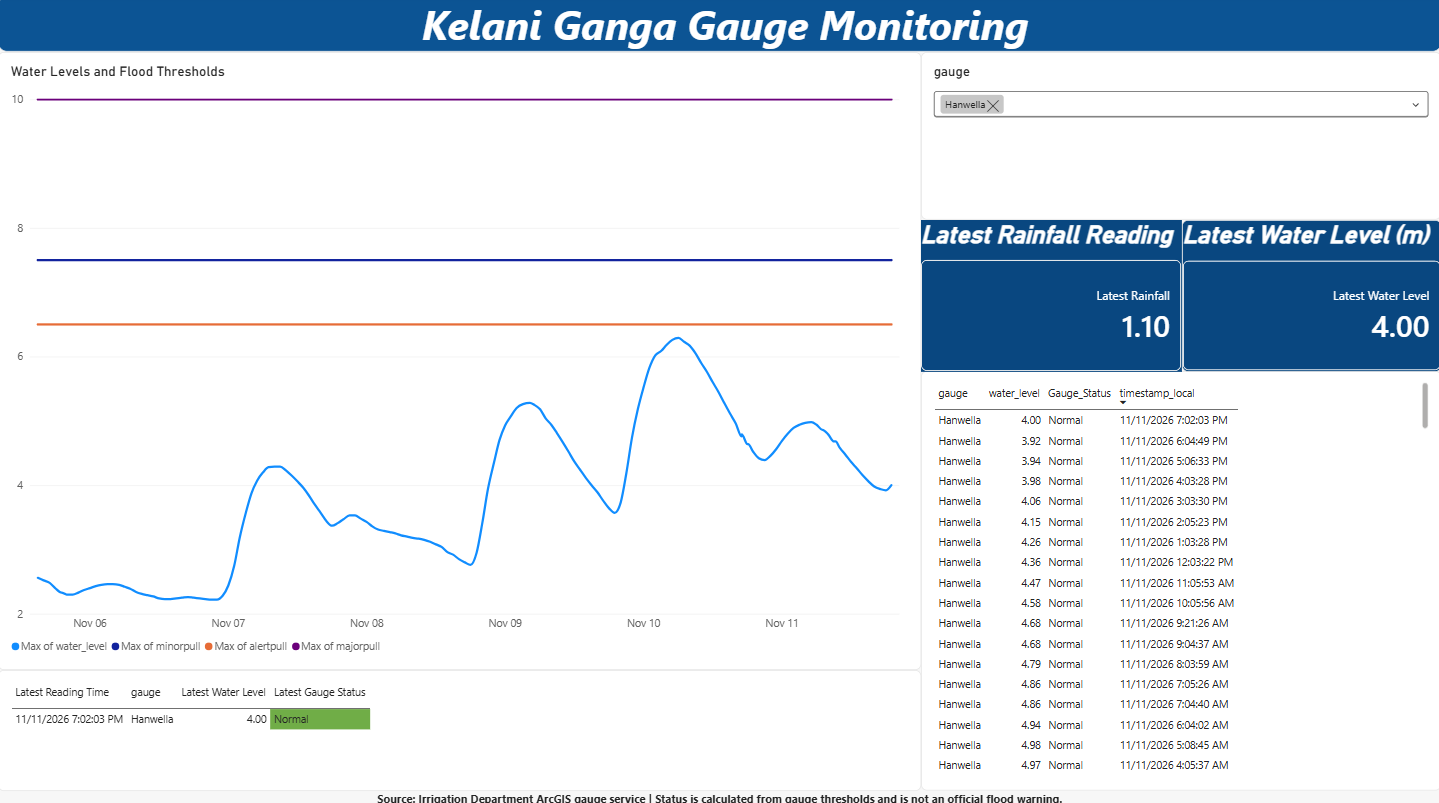

Layout of this report page (visuals, bound fields, positions):
{"tool":"powerbi","page":{"name":"Kelani Live","canvas":[1920,1080],"ordinal":1},"visuals":[{"type":"lineChart","title":"Water Levels and Flood Thresholds","fields":{"Category":["kelani_gauge_history.timestamp_local"],"Y":["Max(kelani_gauge_history.water_level)","Max(kelani_gauge_history.minorpull)","Max(kelani_gauge_history.alertpull)","Max(kelani_gauge_history.majorpull)"]},"box":[0,74,1228.3,822.2],"z":0},{"type":"tableEx","fields":{"Values":["kelani_gauge_history.gauge","kelani_gauge_history.water_level","kelani_gauge_history.Gauge_Status","kelani_gauge_history.timestamp_local"]},"box":[1228.3,498.9,691.7,558.3],"z":1000},{"type":"tableEx","fields":{"Values":["kelani_gauge_history.Latest Reading Time","kelani_gauge_history.gauge","kelani_gauge_history.Latest Water Level","kelani_gauge_history.Latest Gauge Status"]},"box":[0,896.2,1228.3,161],"z":2000},{"type":"textbox","box":[0,0,1920,74.4],"z":3000},{"type":"listSlicer","fields":{"Values":["kelani_gauge_history.gauge"]},"box":[1228.3,74,691.7,223.3],"z":4000},{"type":"cardVisual","title":"Latest Water Level (m)","fields":{"Data":["kelani_gauge_history.Latest Water Level"]},"box":[1574.9,297.3,345.1,201.6],"z":5000},{"type":"textbox","box":[0,1057.2,1920,23.2],"z":5001},{"type":"cardVisual","title":"Latest Rainfall Reading","fields":{"Data":["kelani_gauge_history.Latest Rainfall"]},"box":[1228.3,297.3,346.6,201.6],"z":5002}]}

Visuals, with their boxes in screenshot pixels (x1, y1, x2, y2), scaled from the page's 1920x1080 canvas onto the 1439x803 screenshot:
"Water Levels and Flood Thresholds" lineChart: detection(0, 55, 921, 666)
tableEx - kelani_gauge_history.gauge x kelani_gauge_history.water_level: detection(921, 371, 1438, 786)
tableEx - kelani_gauge_history.Latest Reading Time x kelani_gauge_history.gauge: detection(0, 666, 921, 786)
textbox: detection(0, 0, 1438, 55)
listSlicer - kelani_gauge_history.gauge: detection(921, 55, 1438, 221)
"Latest Water Level (m)" cardVisual: detection(1180, 221, 1438, 371)
textbox: detection(0, 786, 1438, 802)
"Latest Rainfall Reading" cardVisual: detection(921, 221, 1180, 371)
